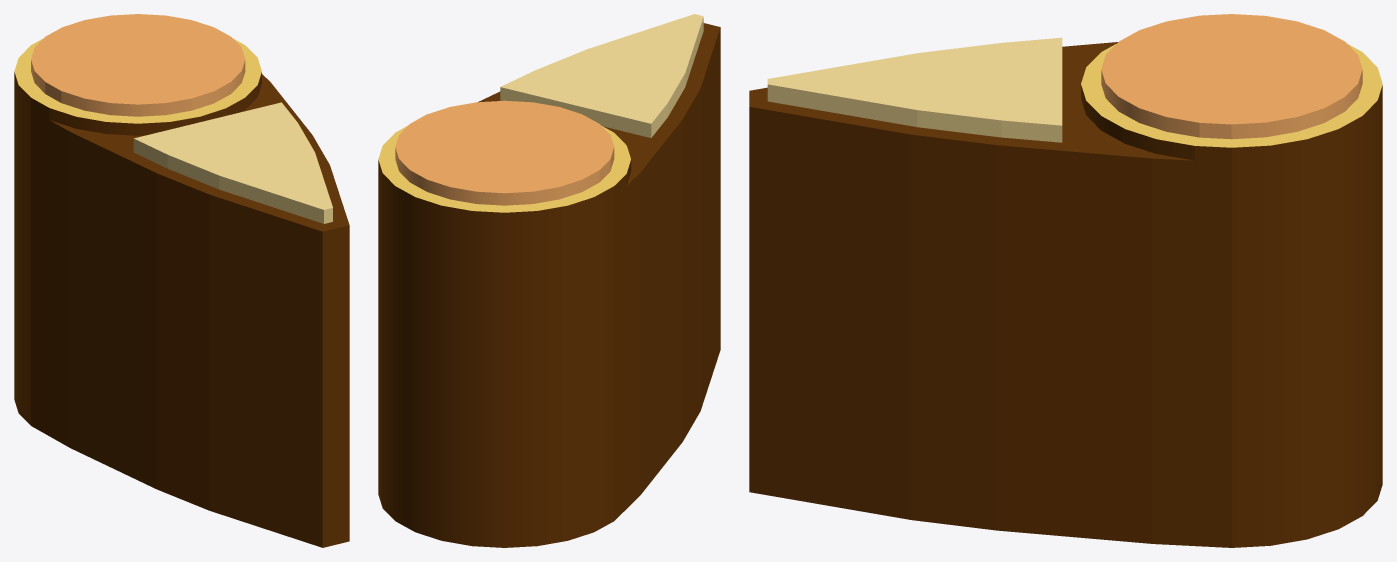
File: bottom pin.fbx
3 views of the same model, side by side, from view 1: azimuth 30°, elevation 25°; view 2: azimuth 150°, elevation 25°; view 3: azimuth 270°, elevation 25° (orthographic). The views are drawn at different scales.
Parts seen in each view (by area): view 1: Model; view 2: Model; view 3: Model.
Part boxes in pixels (box(x1,y1,x2,y2)): Model: box(14, 14, 349, 547); Model: box(378, 14, 720, 547); Model: box(749, 14, 1382, 547).
Size of the model in its own units: 35.2 by 53.4 by 73.9.
